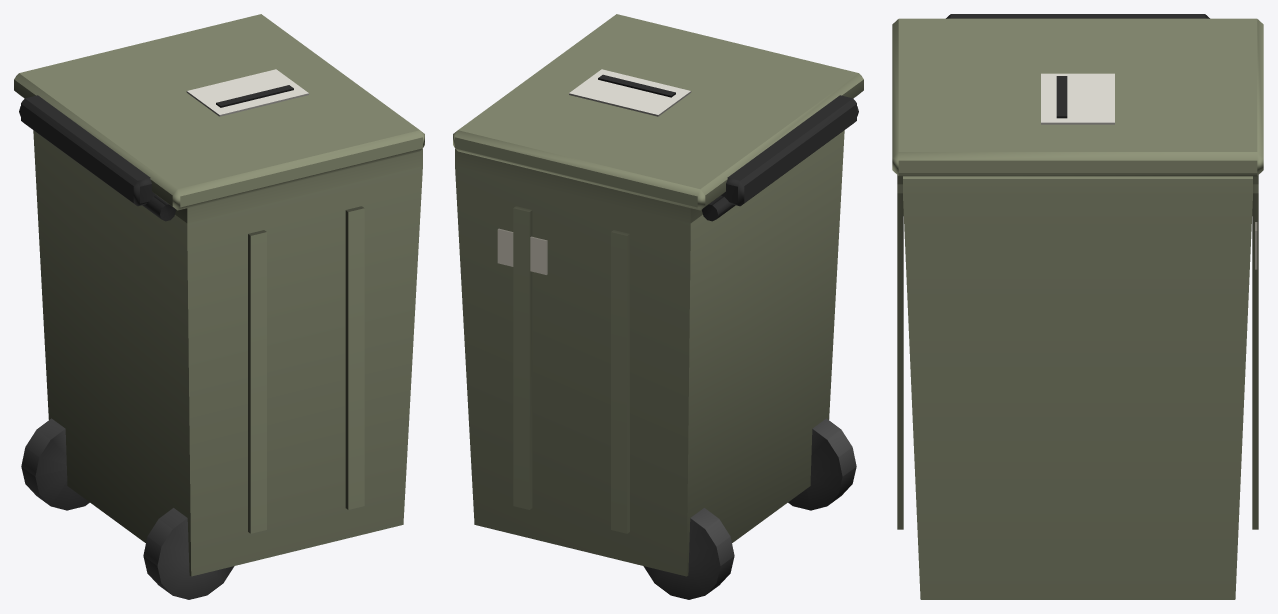
The model's file is wheelie_bin.glb.
3 renders of one model, left to right at view 1: azimuth 30°, elevation 25°; view 2: azimuth 150°, elevation 25°; view 3: azimuth 270°, elevation 25°, orthographic. The views are drawn at different scales.
Visible parts, largest first — view 1: static; view 2: static; view 3: static.
Part boxes in pixels (bbox=[...]): static: bbox=[14, 14, 424, 599]; static: bbox=[453, 14, 863, 599]; static: bbox=[892, 14, 1263, 599].
Bounding box in the file's own units: 0.66 × 1.01 × 0.7.
